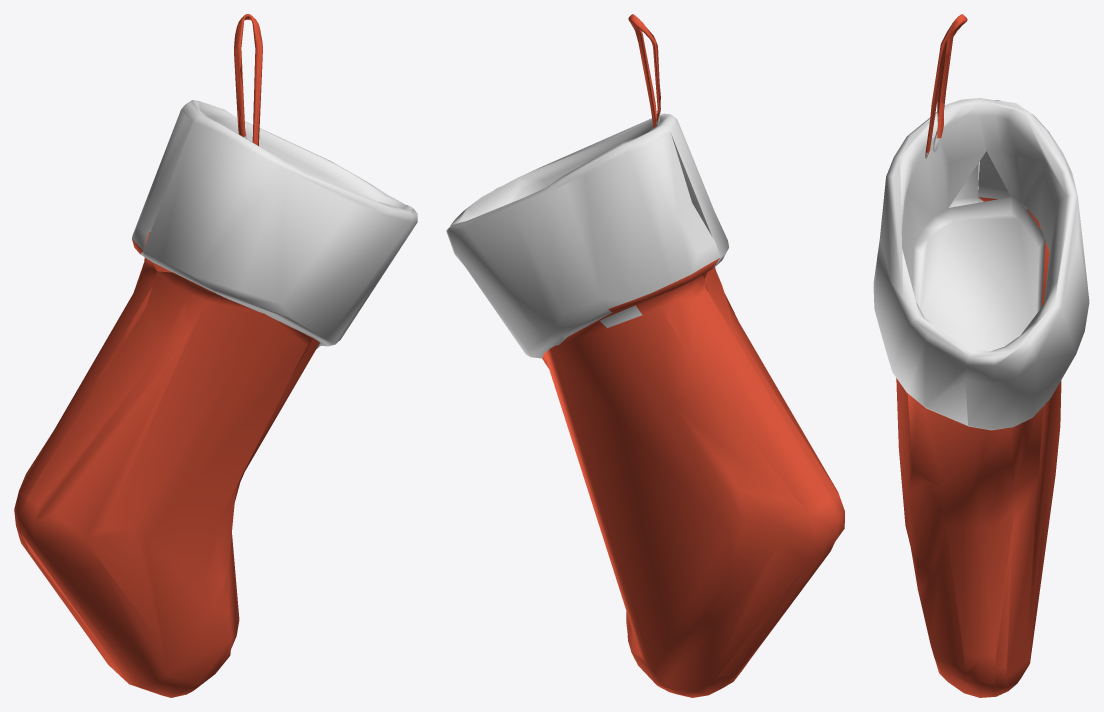
The model's file is sock.glb.
3 views of the same model, side by side, from view 1: azimuth 30°, elevation 25°; view 2: azimuth 150°, elevation 25°; view 3: azimuth 270°, elevation 25° (orthographic). The views are drawn at different scales.
Visible parts, largest first — view 1: node_id30; view 2: node_id30; view 3: node_id30.
Part boxes in pixels (left/top/right/bottom): node_id30: left=14, top=14, right=417, bottom=697; node_id30: left=446, top=14, right=844, bottom=697; node_id30: left=873, top=14, right=1089, bottom=697.
Size of the model in its own units: 0.3129 by 0.512 by 0.1408.
